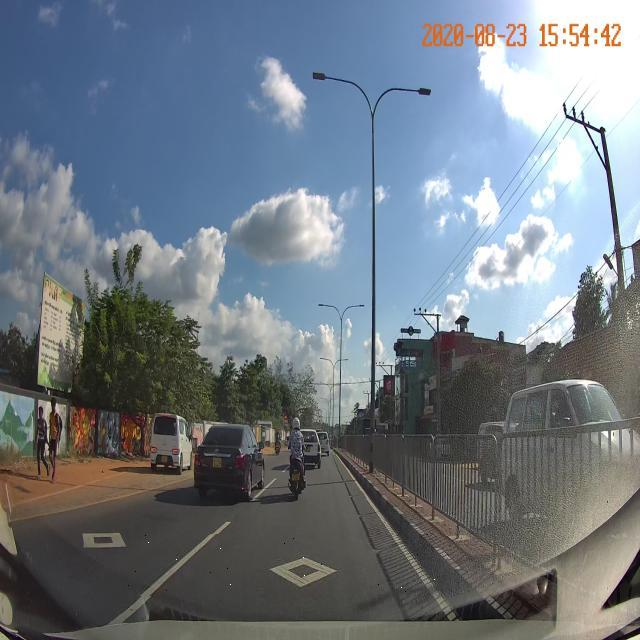diamond: (128, 534, 448, 596)
